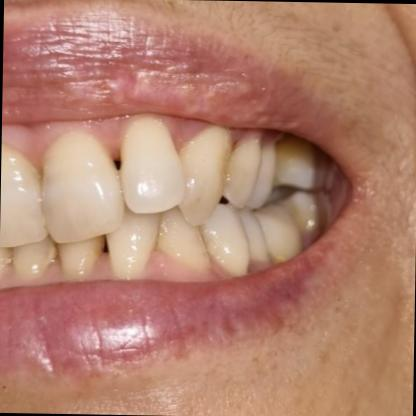Crowding: (116, 118, 224, 215)
